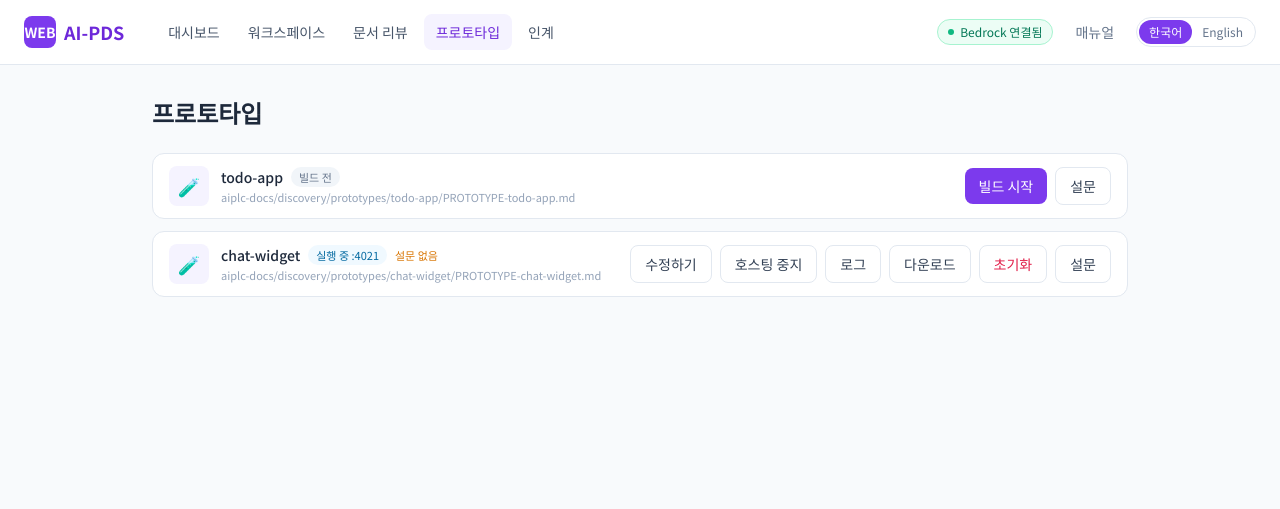
Test: survey panel reachability › stays hidden until the card's 설문 button is clicked
Expected: the text "todo-app" is shown, [221,167,283,187]
Expected: the text "검증 설문" is not shown
Click the button "설문" in the row of "빌드 전". click: {"x": 1083, "y": 186}
box: [1055,167,1111,205]
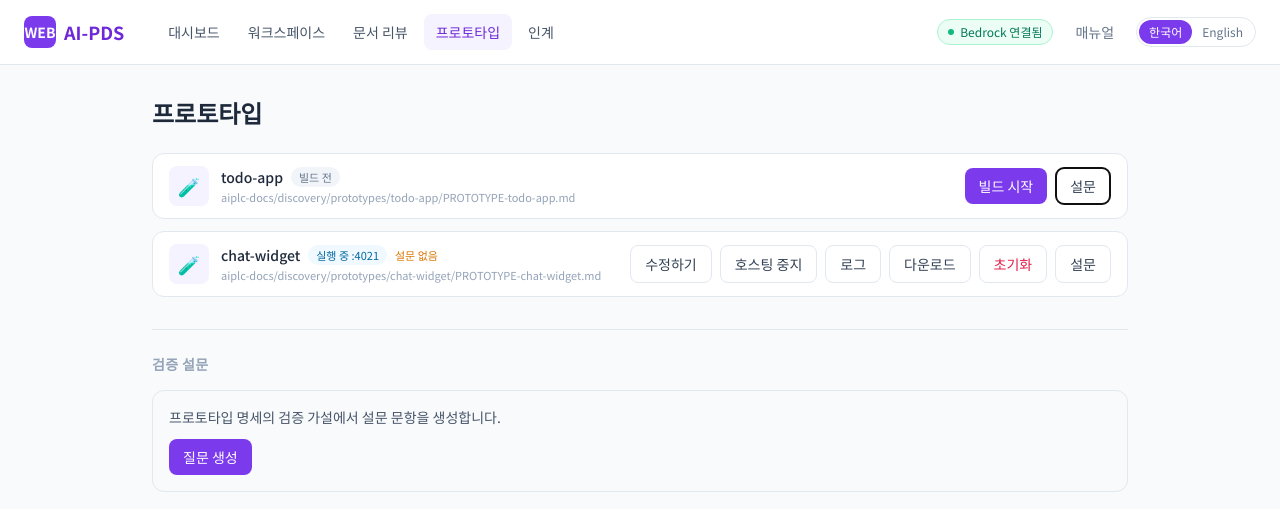
Expected: the heading "검증 설문" is shown, [152,354,208,374]
